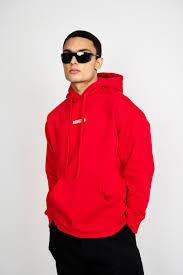hoodie: (41, 70, 157, 237)
